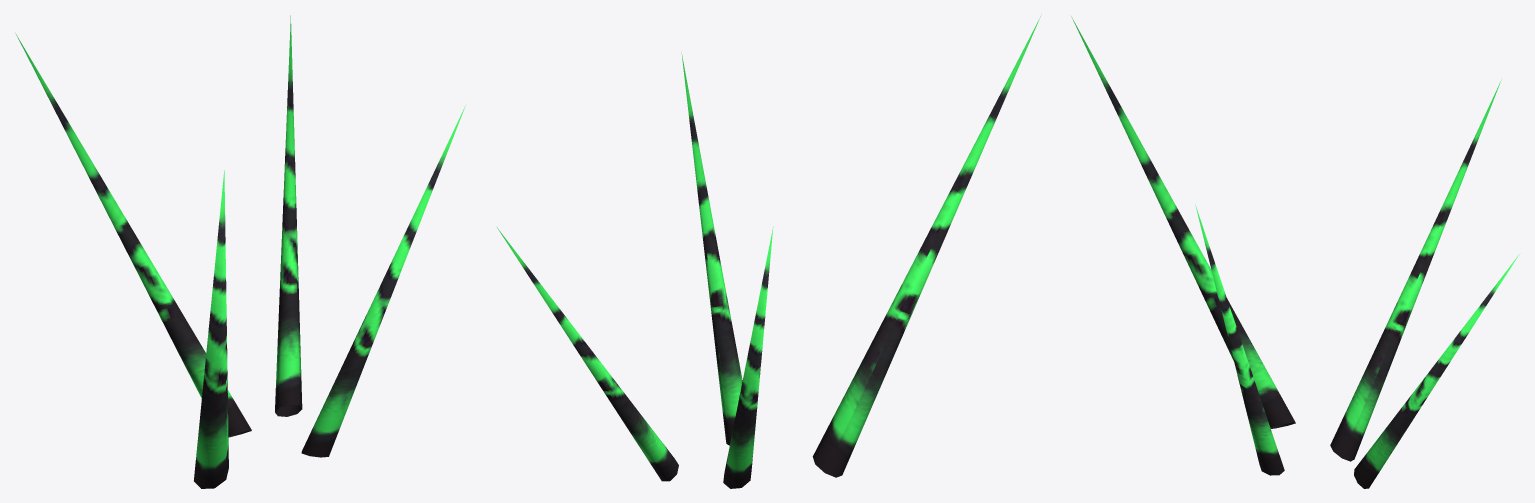
Rendered from dici_zp_01.FBX.
The picture shows the model from 3 angles, left to right: view 1: azimuth 30°, elevation 25°; view 2: azimuth 150°, elevation 25°; view 3: azimuth 270°, elevation 25°; orthographic projection. The views are drawn at different scales.
Visible parts, largest first — view 1: Monster_shadow_blacke_kasi001; view 2: Monster_shadow_blacke_kasi001; view 3: Monster_shadow_blacke_kasi001.
Boxes of the visible parts, x1,y1,x2,y2 form: Monster_shadow_blacke_kasi001: (15,15,465,488); Monster_shadow_blacke_kasi001: (497,16,1040,488); Monster_shadow_blacke_kasi001: (1071,16,1519,488).
Size of the model in its own units: 133 by 169 by 184.
